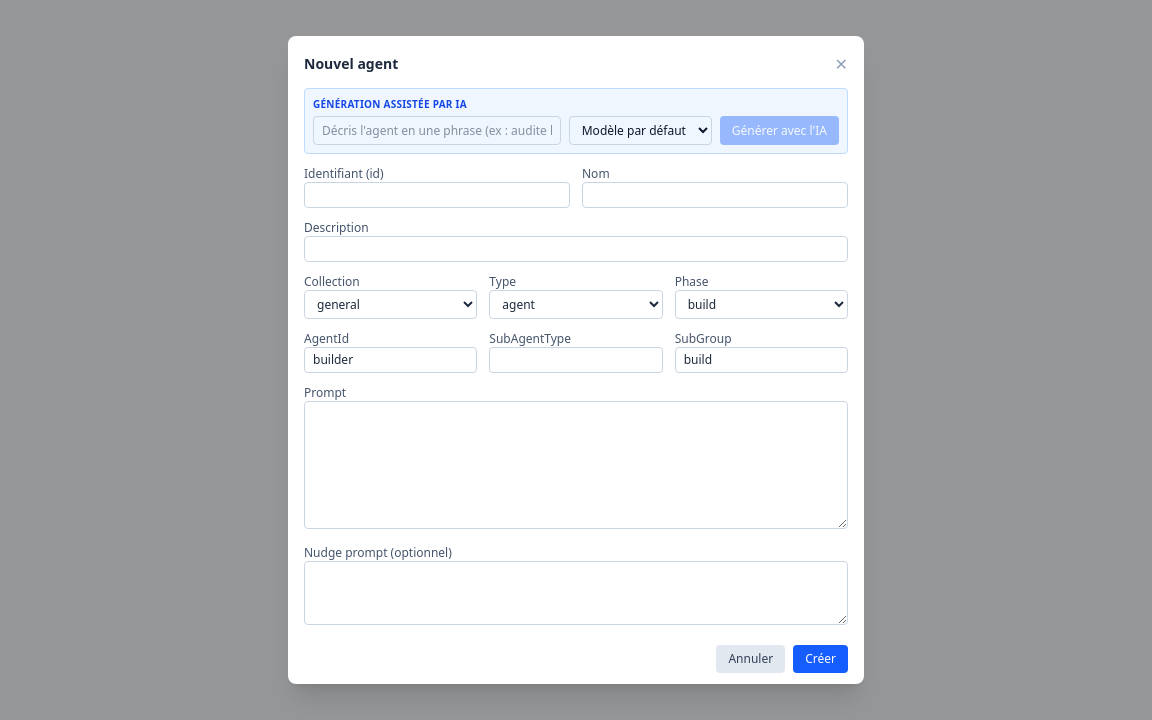
Test: AgentEditor › affiche l'erreur HTTP du backend
Type "planner" into the field labelled "Identifiant (id)" at (437, 195), box [304, 182, 570, 208]
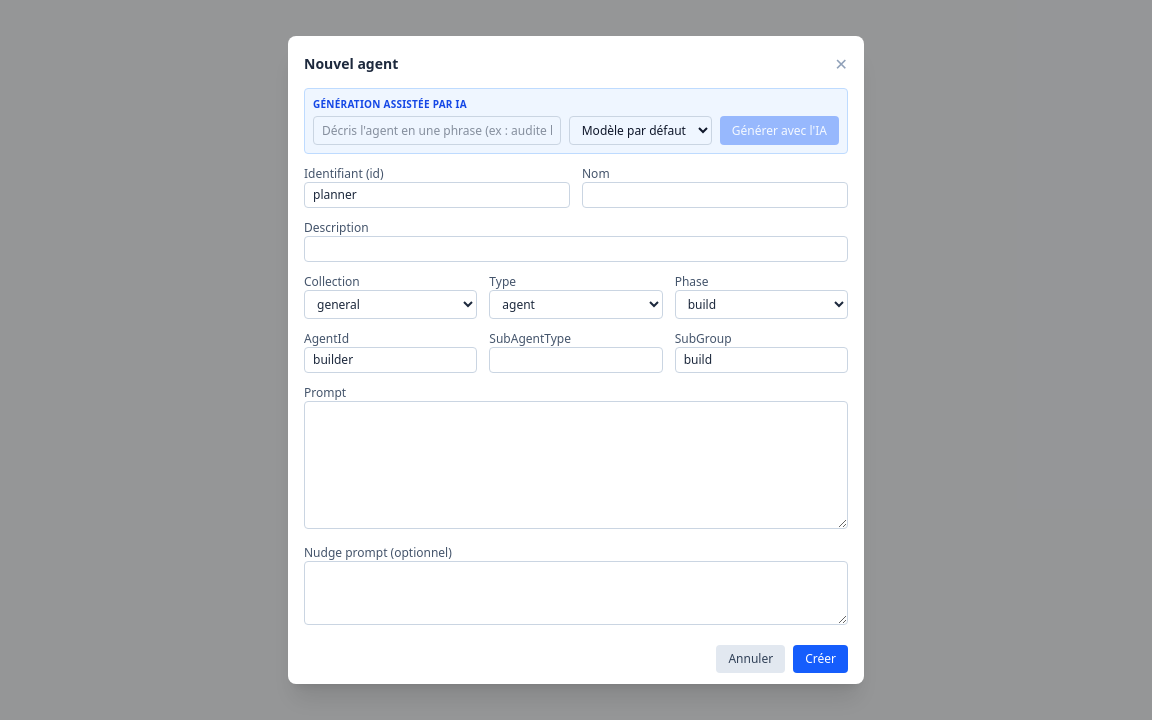
Type "Doublon" into the field labelled "Nom" at (715, 195), box [582, 182, 848, 208]
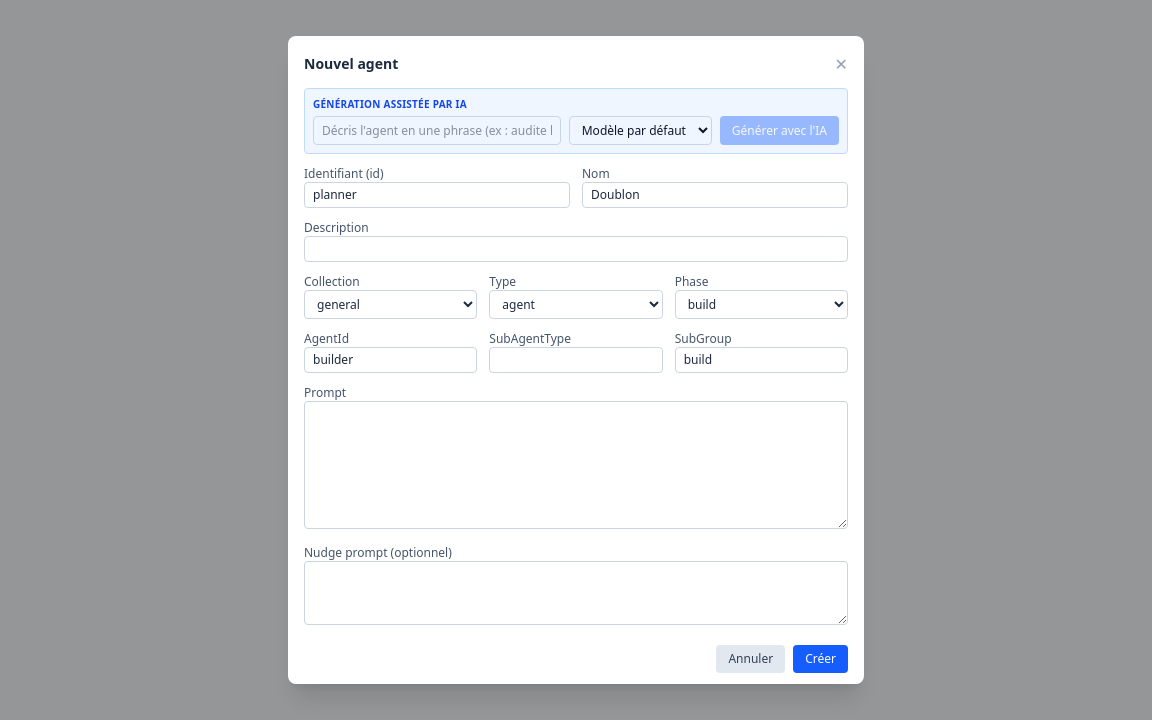
Type "x" into the text box labelled "Prompt" at (576, 465), box [304, 401, 848, 529]
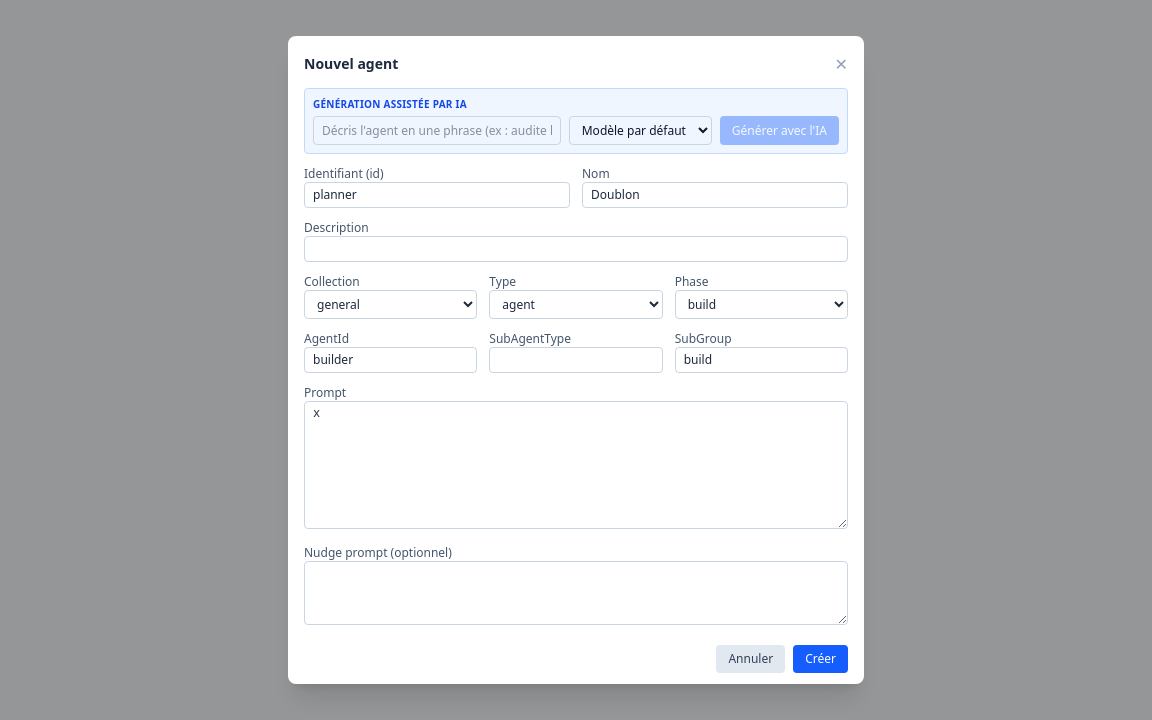
Click the button "Créer" at (821, 659), box [793, 645, 848, 673]
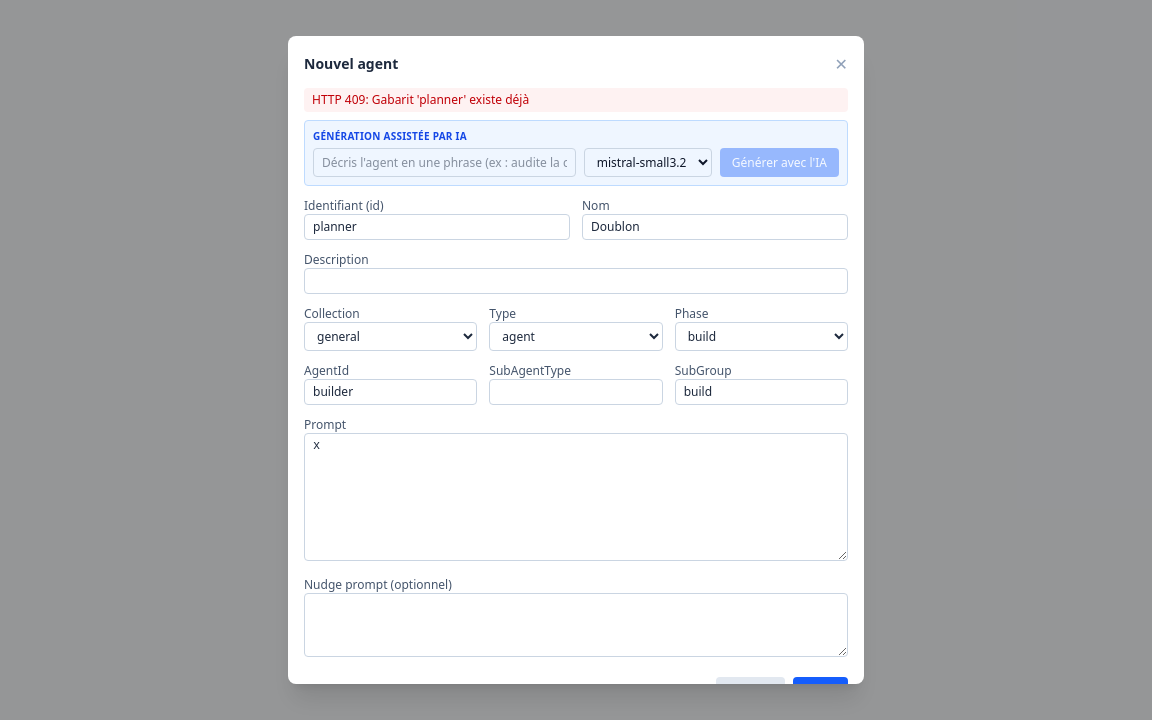
Now the text "HTTP 409: Gabarit 'planner' existe déjà" is shown, box [304, 88, 848, 112]
